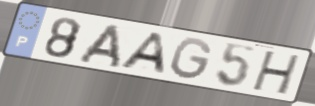5: (215, 42, 258, 90)
8: (43, 16, 84, 60)
A: (116, 31, 168, 77), (75, 22, 122, 71)
G: (168, 36, 215, 82)
H: (249, 50, 304, 98)
